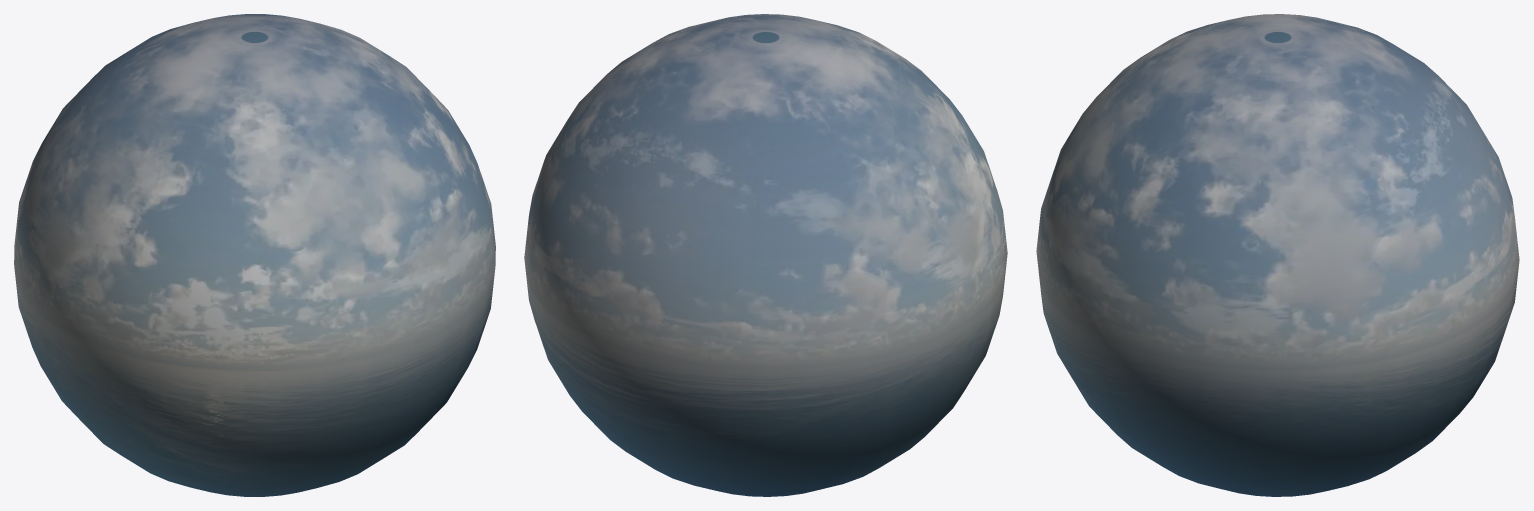
Rendered from tree_spha1-transformed.glb.
The picture shows the model from 3 angles, left to right: view 1: azimuth 30°, elevation 25°; view 2: azimuth 150°, elevation 25°; view 3: azimuth 270°, elevation 25°; orthographic projection.
Parts seen in each view (by area): view 1: Sphere; view 2: Sphere; view 3: Sphere.
Part boxes in pixels (x1=…): Sphere: x1=14, y1=14, x2=495, y2=496; Sphere: x1=524, y1=14, x2=1007, y2=496; Sphere: x1=1036, y1=14, x2=1519, y2=496.
Size of the model in its own units: 126 by 126 by 126.
Materials: 19 (17 with a texture image).
